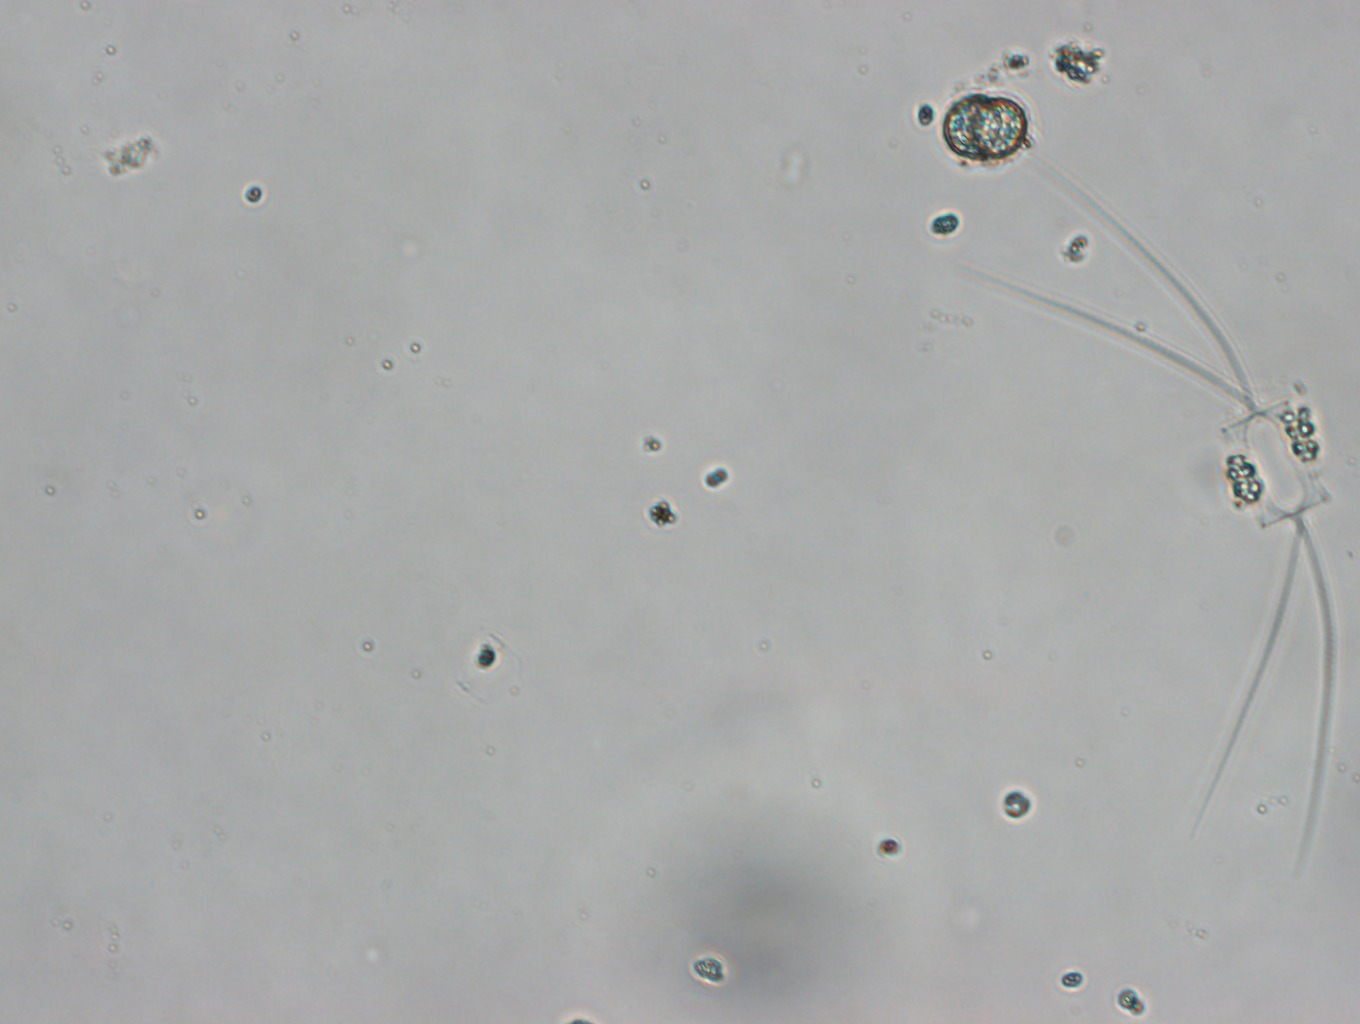chaetoceros: (973, 169, 1336, 874)
